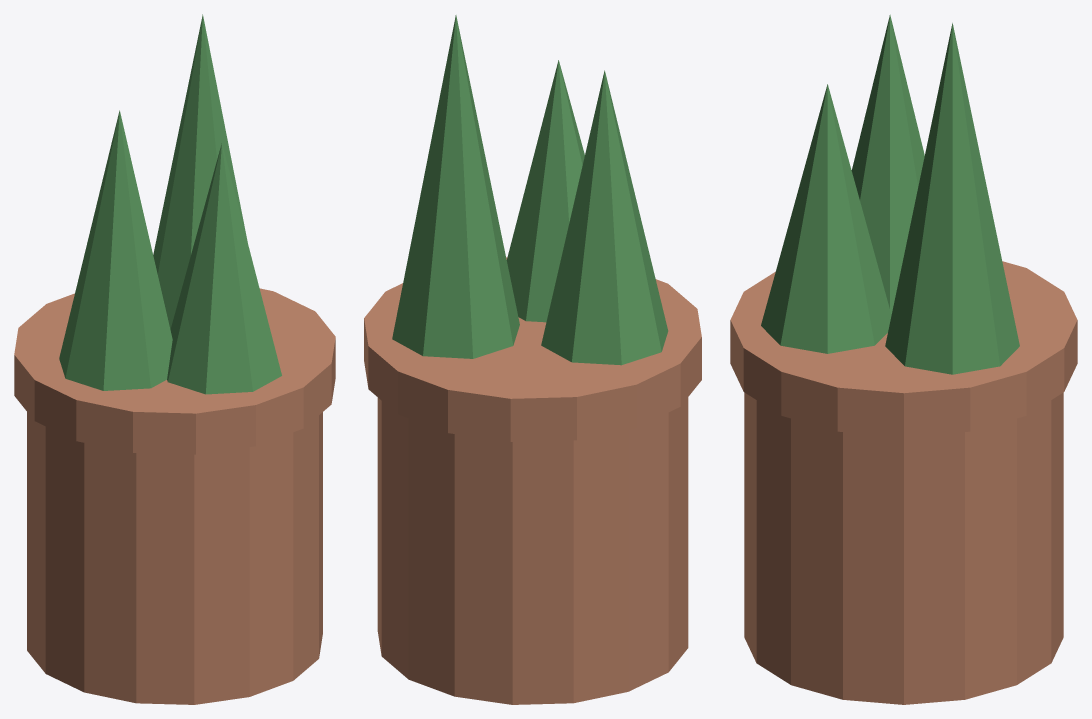
Rendered from planter.glb.
3 views of the same model, side by side, from view 1: azimuth 30°, elevation 25°; view 2: azimuth 150°, elevation 25°; view 3: azimuth 270°, elevation 25° (orthographic). The views are drawn at different scales.
Visible parts, largest first — view 1: Planter pot, Planter rim, Planter leaves, Planter leaves.002, Planter leaves.001; view 2: Planter pot, Planter rim, Planter leaves.001, Planter leaves, Planter leaves.002; view 3: Planter pot, Planter rim, Planter leaves.001, Planter leaves.002, Planter leaves.
Part boxes in pixels (<box>): Planter pot: <box>27,412,322,704</box>; Planter rim: <box>14,288,335,454</box>; Planter leaves: <box>59,110,172,390</box>; Planter leaves.002: <box>167,143,281,394</box>; Planter leaves.001: <box>153,14,247,329</box>; Planter pot: <box>377,397,688,704</box>; Planter rim: <box>364,257,701,441</box>; Planter leaves.001: <box>392,15,519,358</box>; Planter leaves: <box>541,70,668,365</box>; Planter leaves.002: <box>506,60,584,322</box>; Planter pot: <box>744,392,1063,704</box>; Planter rim: <box>730,261,1077,437</box>; Planter leaves.001: <box>885,23,1019,374</box>; Planter leaves.002: <box>761,84,891,353</box>; Planter leaves: <box>851,14,924,314</box>.
Bounding box in the file's own units: 0.5 × 1.02 × 0.5.
